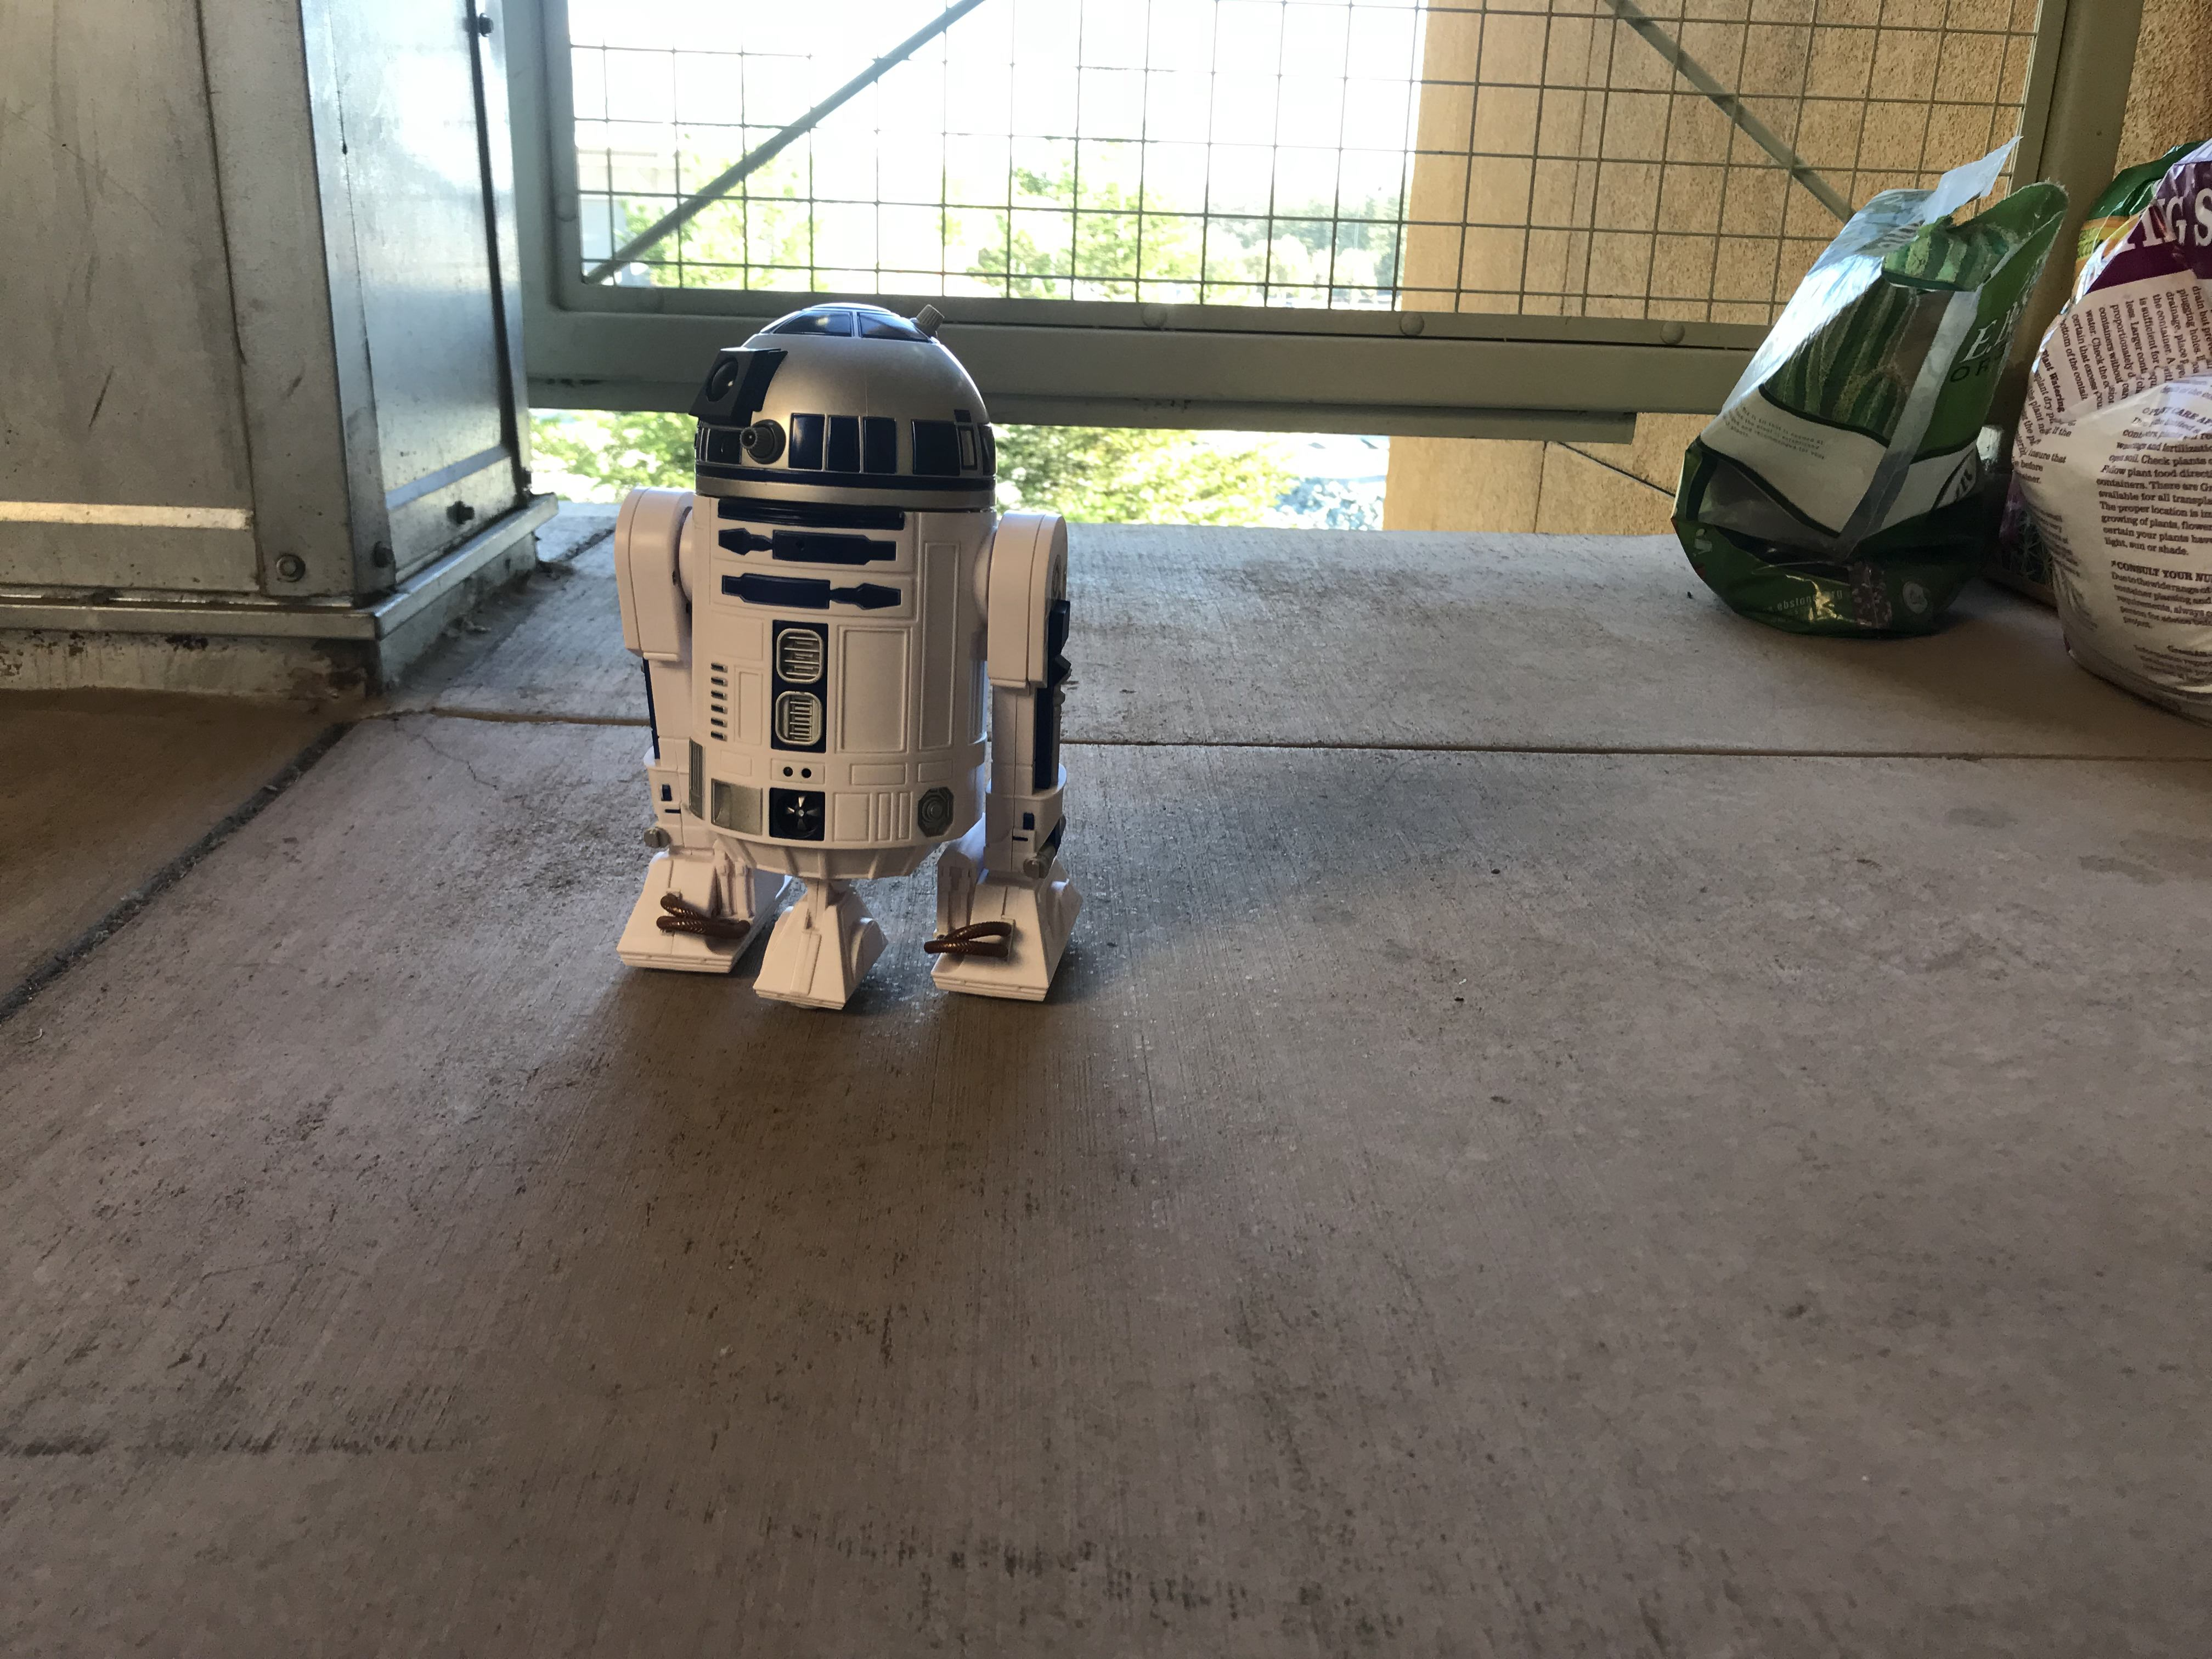r2d2: (622, 298, 1085, 1009)
